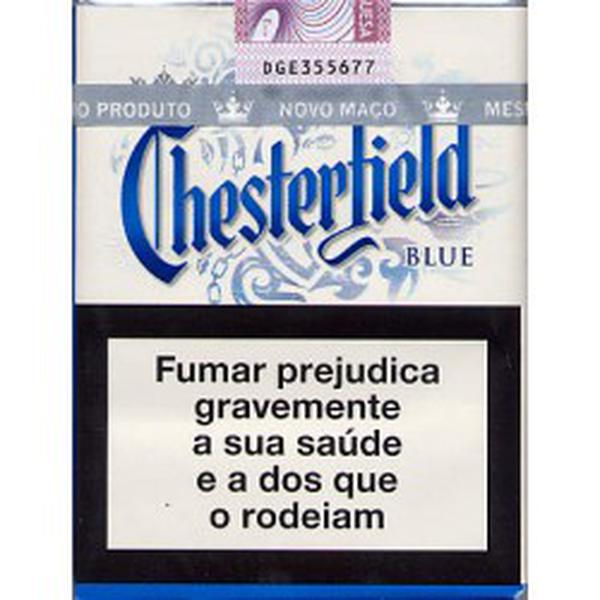chesterfield_blue: (73, 4, 525, 584)
